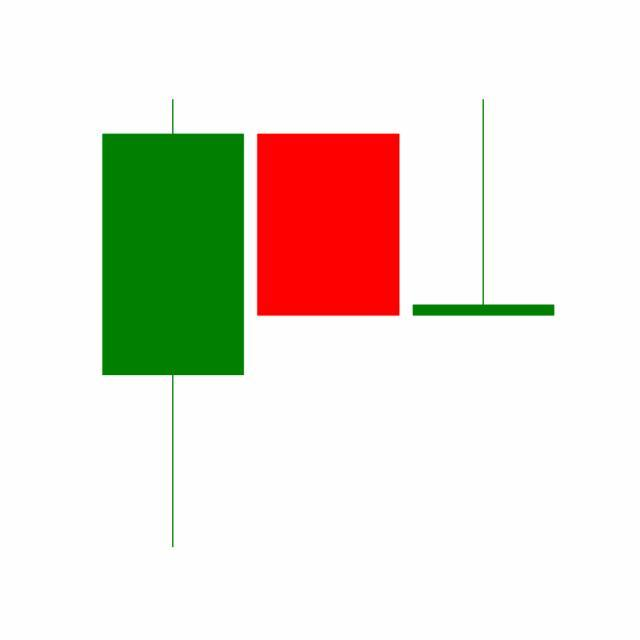Marubozu: (250, 132, 407, 318)
